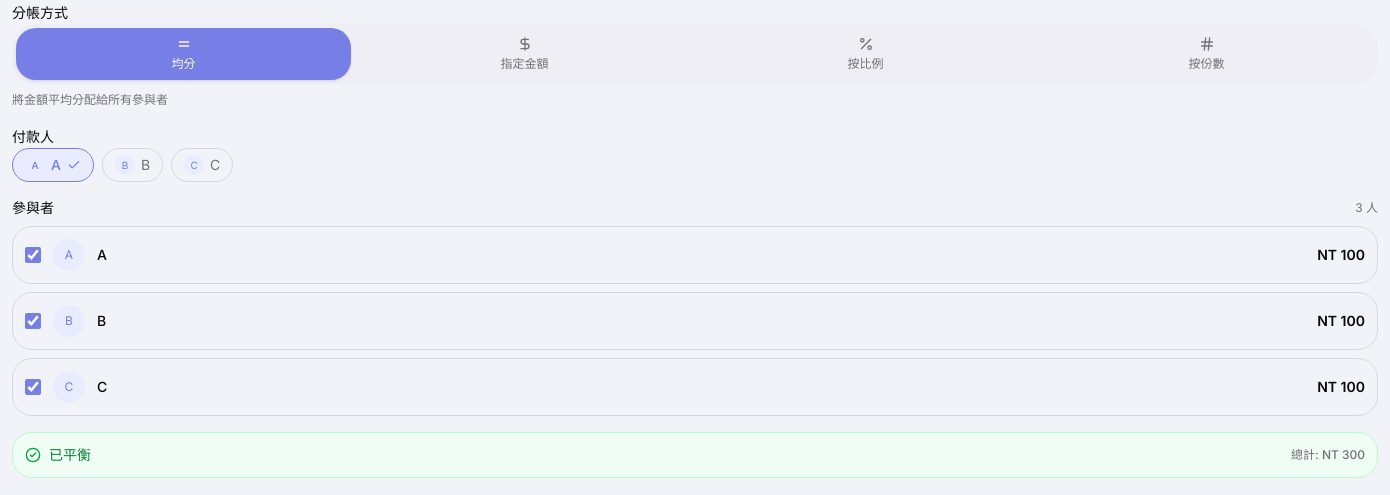
Scenario: SplitConfigurator › exact input rejects non-integers (truncated to integer)
Click the button "指定金額" at (524, 54), box [357,28,692,80]
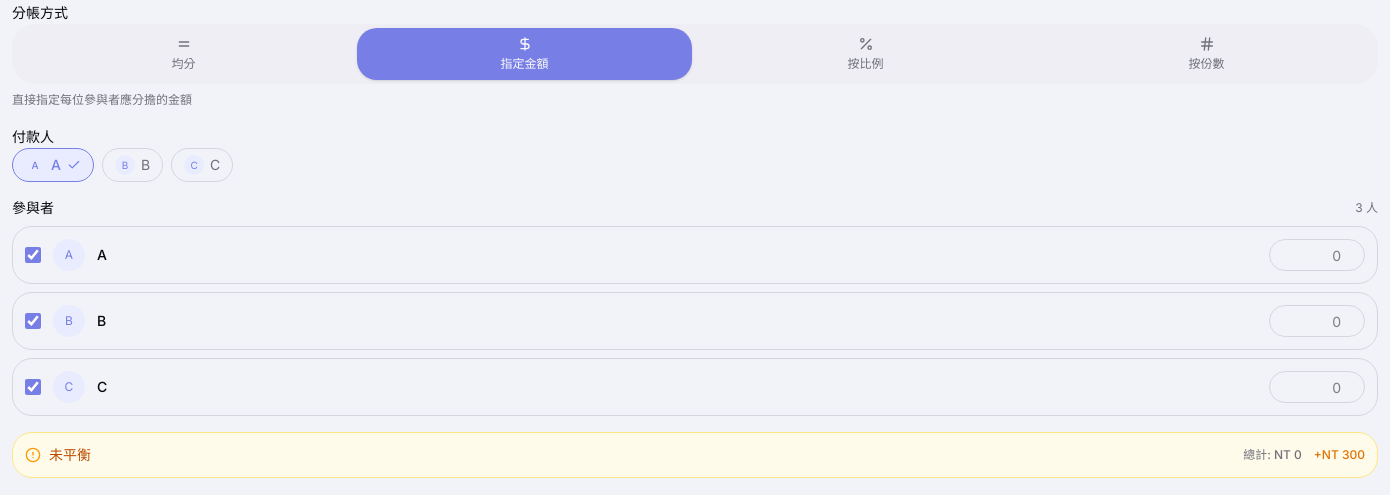
Type "150.75" into the number field named "A 金額" at (1317, 255), box [1269,239,1365,271]
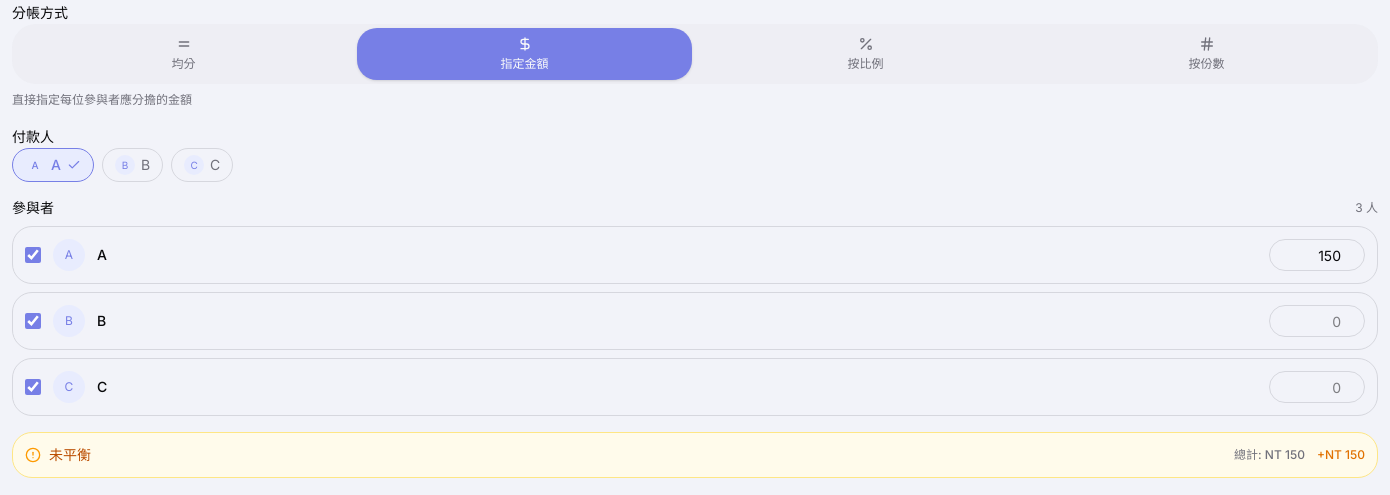
Expected: the number field named "A 金額" holds "150", [1269,239,1365,271]
